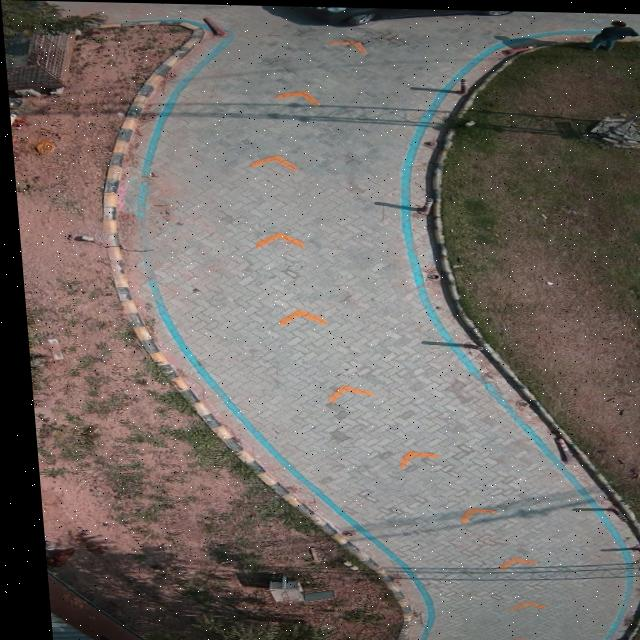car: (301, 5, 511, 25)
